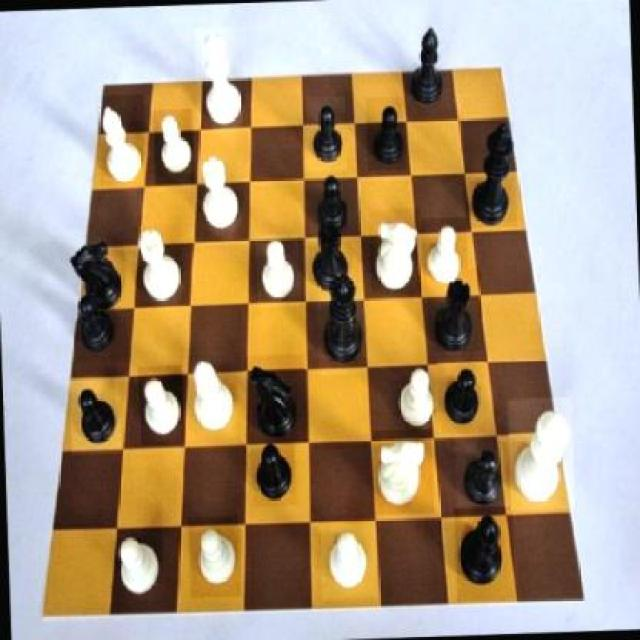bishop: (454, 506, 514, 602), (404, 15, 448, 118)
black-bishop: (461, 120, 517, 229)
black-king: (65, 228, 129, 320), (245, 354, 308, 441)
black-knight: (72, 284, 130, 360), (69, 378, 122, 456), (437, 360, 487, 434), (454, 434, 504, 508), (251, 436, 297, 506), (305, 96, 347, 172), (364, 97, 406, 171), (312, 171, 357, 234)
black-pawn: (315, 263, 368, 377)
black-queen: (300, 211, 359, 294), (426, 269, 483, 353)
black-rook: (183, 351, 236, 440), (96, 95, 146, 188)
white-bishop: (508, 397, 574, 511)
white-king: (372, 428, 435, 514), (368, 208, 420, 294)
white-knight: (320, 524, 377, 600), (188, 515, 240, 598), (420, 217, 469, 297), (138, 364, 186, 444), (389, 357, 438, 434), (114, 529, 160, 600), (256, 234, 300, 308), (153, 109, 194, 186)
white-pawn: (194, 26, 249, 129)
white-queen: (132, 225, 195, 308), (195, 150, 243, 244)
